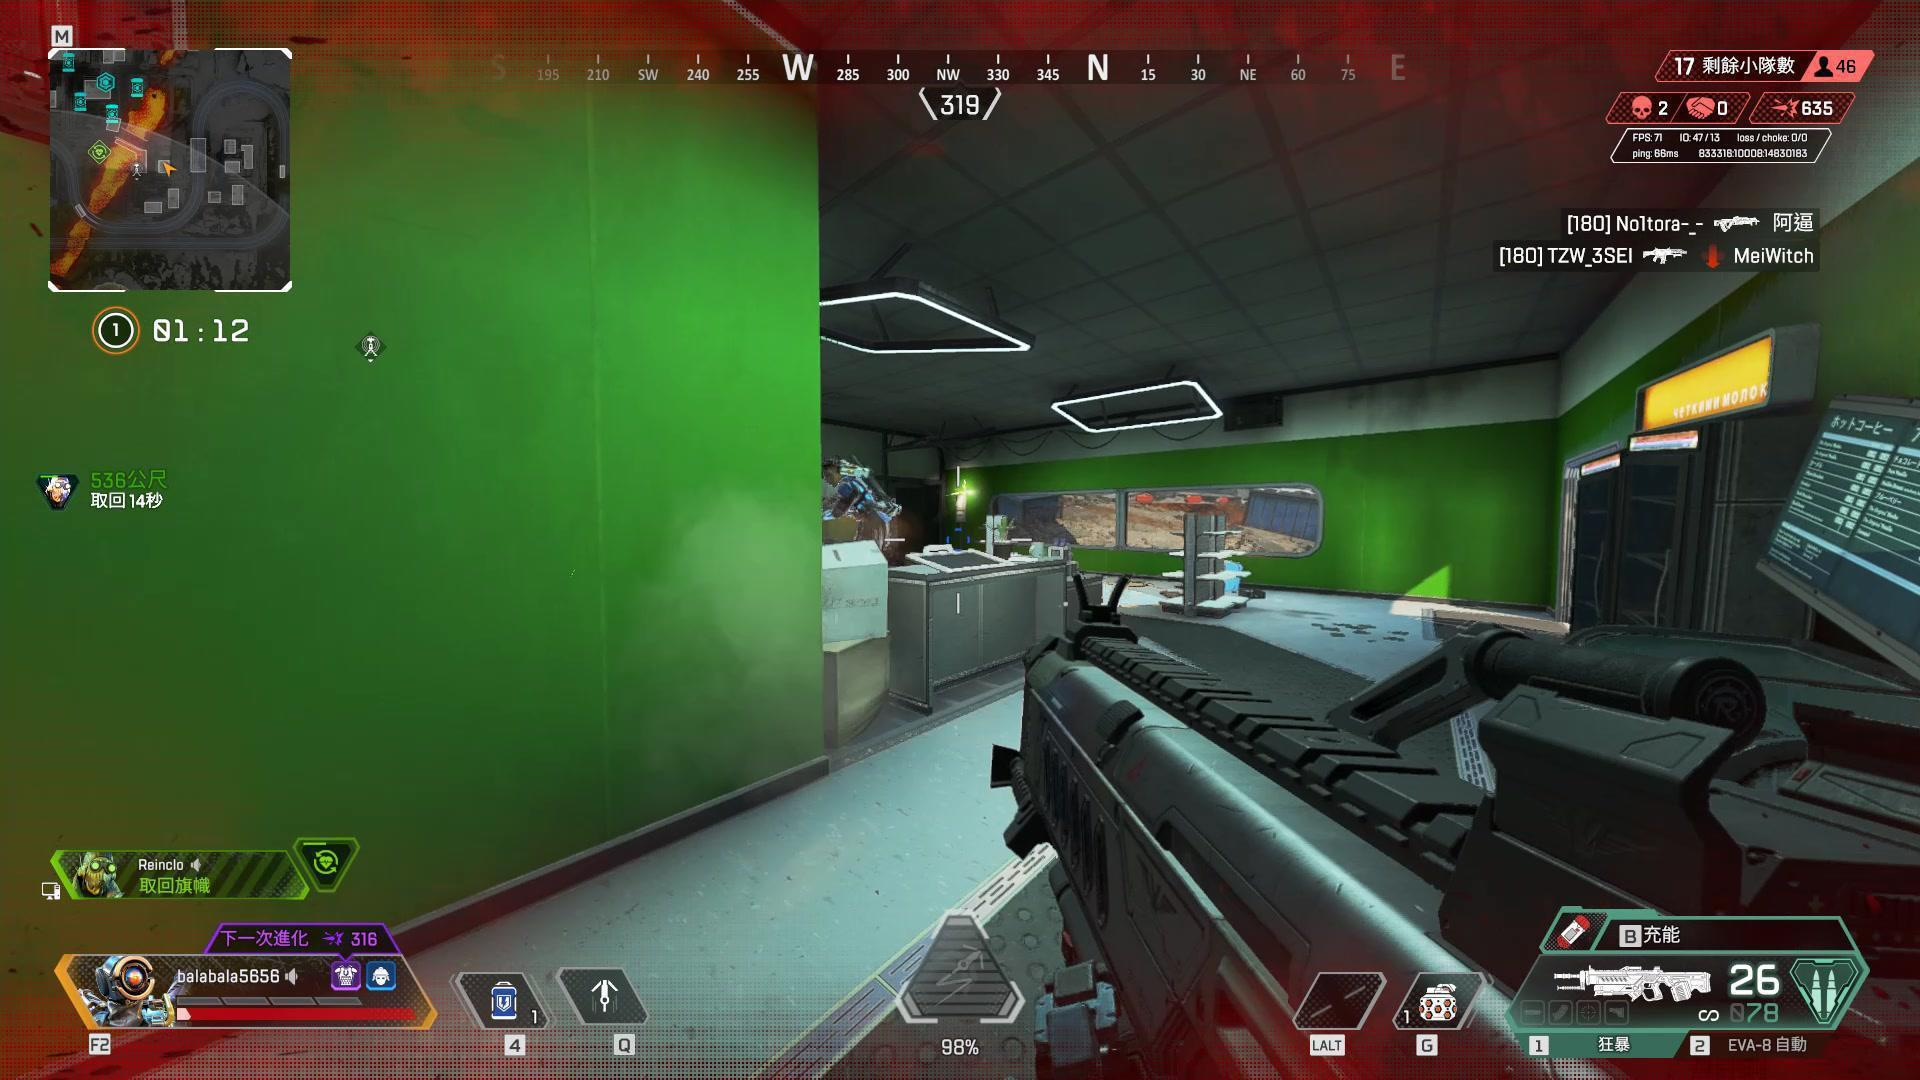avatar: (820, 454, 892, 552)
